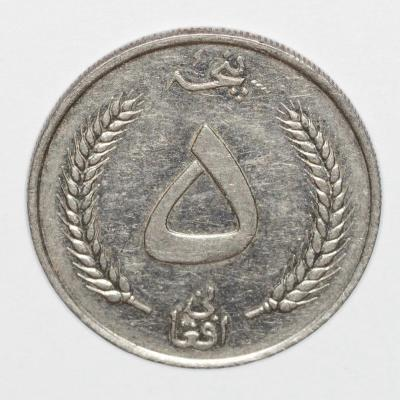numismatics: (28, 28, 380, 368)
